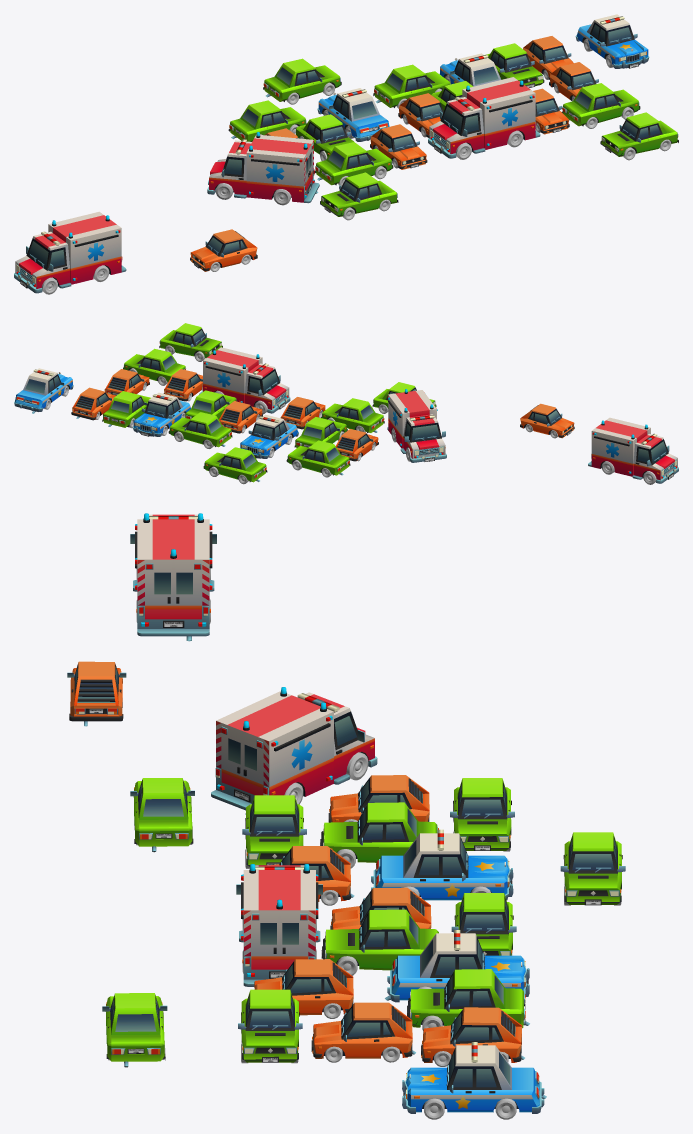
The model's file is cars.fbx.
3 renders of one model, top to bottom at view 1: azimuth 30°, elevation 25°; view 2: azimuth 150°, elevation 25°; view 3: azimuth 270°, elevation 25°, orthographic. The views are drawn at different scales.
Parts seen in each view (by area): view 1: car_4.022, car_4.005, car_4.018, car_4.020, car_4.019, car_4.024, car_4.008, car_4.006, car_4.001, car_4.017, car_4.002, car_4.012 (+10 smaller); view 2: car_4.005, car_4.022, car_4.018, car_4.020, car_4.014, car_4.001, car_4.002, car_4.012, car_4.019, car_4.008, car_4.017, car_4.024 (+11 smaller); view 3: car_4.018, car_4.005, car_4.022, car_4.020, car_4.001, car_4.014, car_4.021, car_4.015, car_4.004, car_4.009, car_4.024, car_4.019 (+11 smaller).
Part boxes in pixels (bbox=[...]): car_4.022: bbox=[428, 77, 540, 159]; car_4.005: bbox=[14, 211, 126, 294]; car_4.018: bbox=[207, 132, 319, 205]; car_4.020: bbox=[575, 14, 649, 68]; car_4.019: bbox=[263, 58, 341, 104]; car_4.024: bbox=[562, 83, 640, 128]; car_4.008: bbox=[600, 112, 678, 160]; car_4.006: bbox=[320, 172, 398, 220]; car_4.001: bbox=[317, 88, 389, 141]; car_4.017: bbox=[314, 142, 393, 186]; car_4.002: bbox=[228, 100, 306, 141]; car_4.012: bbox=[373, 64, 450, 108]; car_4.005: bbox=[588, 417, 678, 484]; car_4.022: bbox=[199, 347, 290, 414]; car_4.018: bbox=[387, 389, 446, 462]; car_4.020: bbox=[14, 368, 73, 413]; car_4.014: bbox=[132, 392, 190, 436]; car_4.001: bbox=[240, 414, 298, 458]; car_4.002: bbox=[286, 440, 350, 477]; car_4.012: bbox=[168, 412, 232, 448]; car_4.019: bbox=[203, 447, 267, 484]; car_4.008: bbox=[159, 323, 222, 361]; car_4.017: bbox=[321, 398, 384, 432]; car_4.024: bbox=[123, 348, 185, 385]; car_4.018: bbox=[211, 687, 377, 814]; car_4.005: bbox=[130, 513, 216, 641]; car_4.022: bbox=[236, 864, 322, 986]; car_4.020: bbox=[402, 1042, 546, 1119]; car_4.001: bbox=[371, 829, 513, 900]; car_4.014: bbox=[385, 930, 529, 1002]; car_4.021: bbox=[311, 1002, 415, 1062]; car_4.015: bbox=[321, 909, 438, 975]; car_4.004: bbox=[320, 802, 438, 868]; car_4.009: bbox=[407, 969, 529, 1030]; car_4.024: bbox=[238, 989, 302, 1063]; car_4.019: bbox=[560, 832, 625, 905].
Size of the model in its own units: 1005 by 76.36 by 428.
